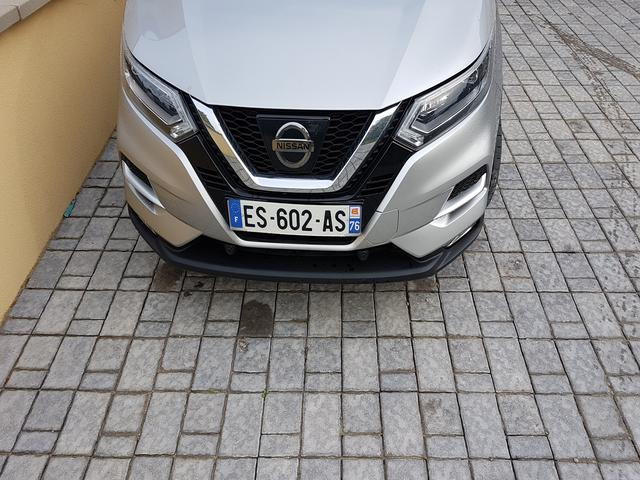Quashquai: (219, 192, 368, 238)
